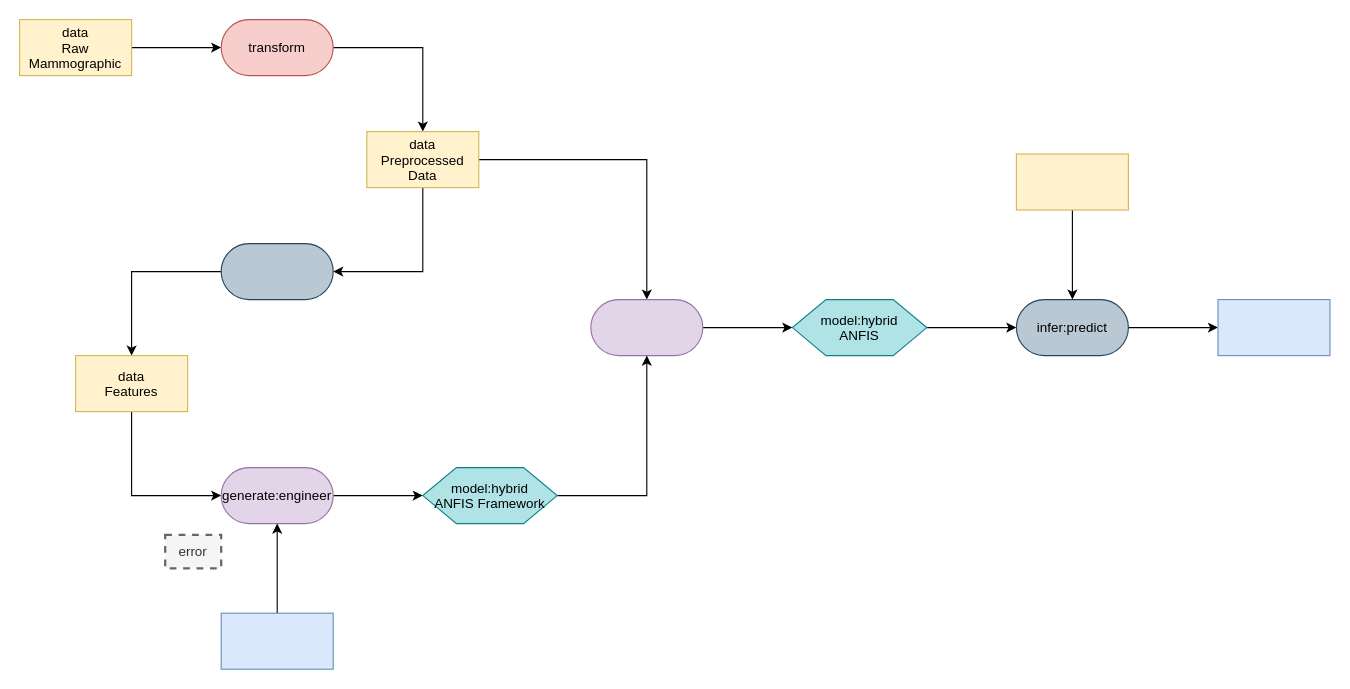
This 1350x689 diagram has some shape labels left out. The shapes that lost their labels are listed below. From the top down, each one's centre as x and y in pixels, then its label:
At (x=1071, y=181): "data Patient Mammographic".
At (x=276, y=271): "infer:deduce".
At (x=646, y=327): "generate:train".
At (x=1273, y=327): "symbol Diagnosis Severity".
At (x=276, y=640): "symbol Fuzzy Rules".
